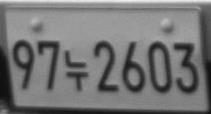0: (148, 40, 172, 93)
2: (92, 38, 119, 92)
3: (173, 41, 199, 93)
6: (121, 40, 146, 93)
7: (36, 39, 60, 89)
9: (11, 38, 35, 90)
누: (64, 48, 89, 92)
